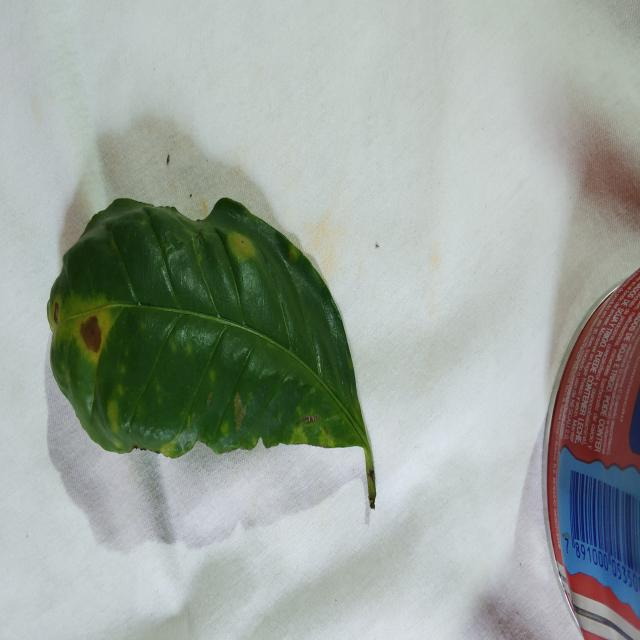Enfermedad-Roya: (46, 199, 376, 511)
